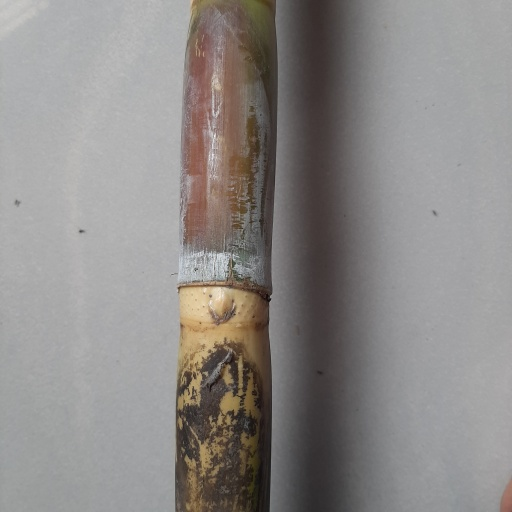Bud: (207, 287, 236, 325)
